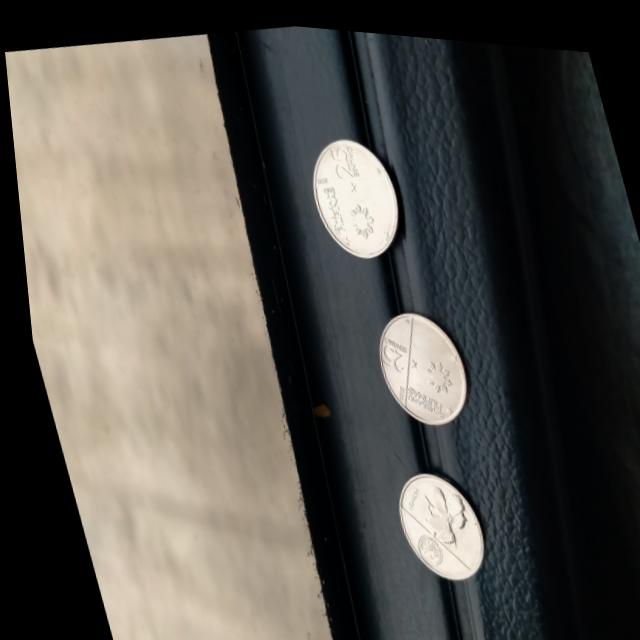25Cent_New_Back: (404, 473, 466, 546)
25Cent_New_Front: (364, 328, 408, 375), (322, 134, 364, 176)
